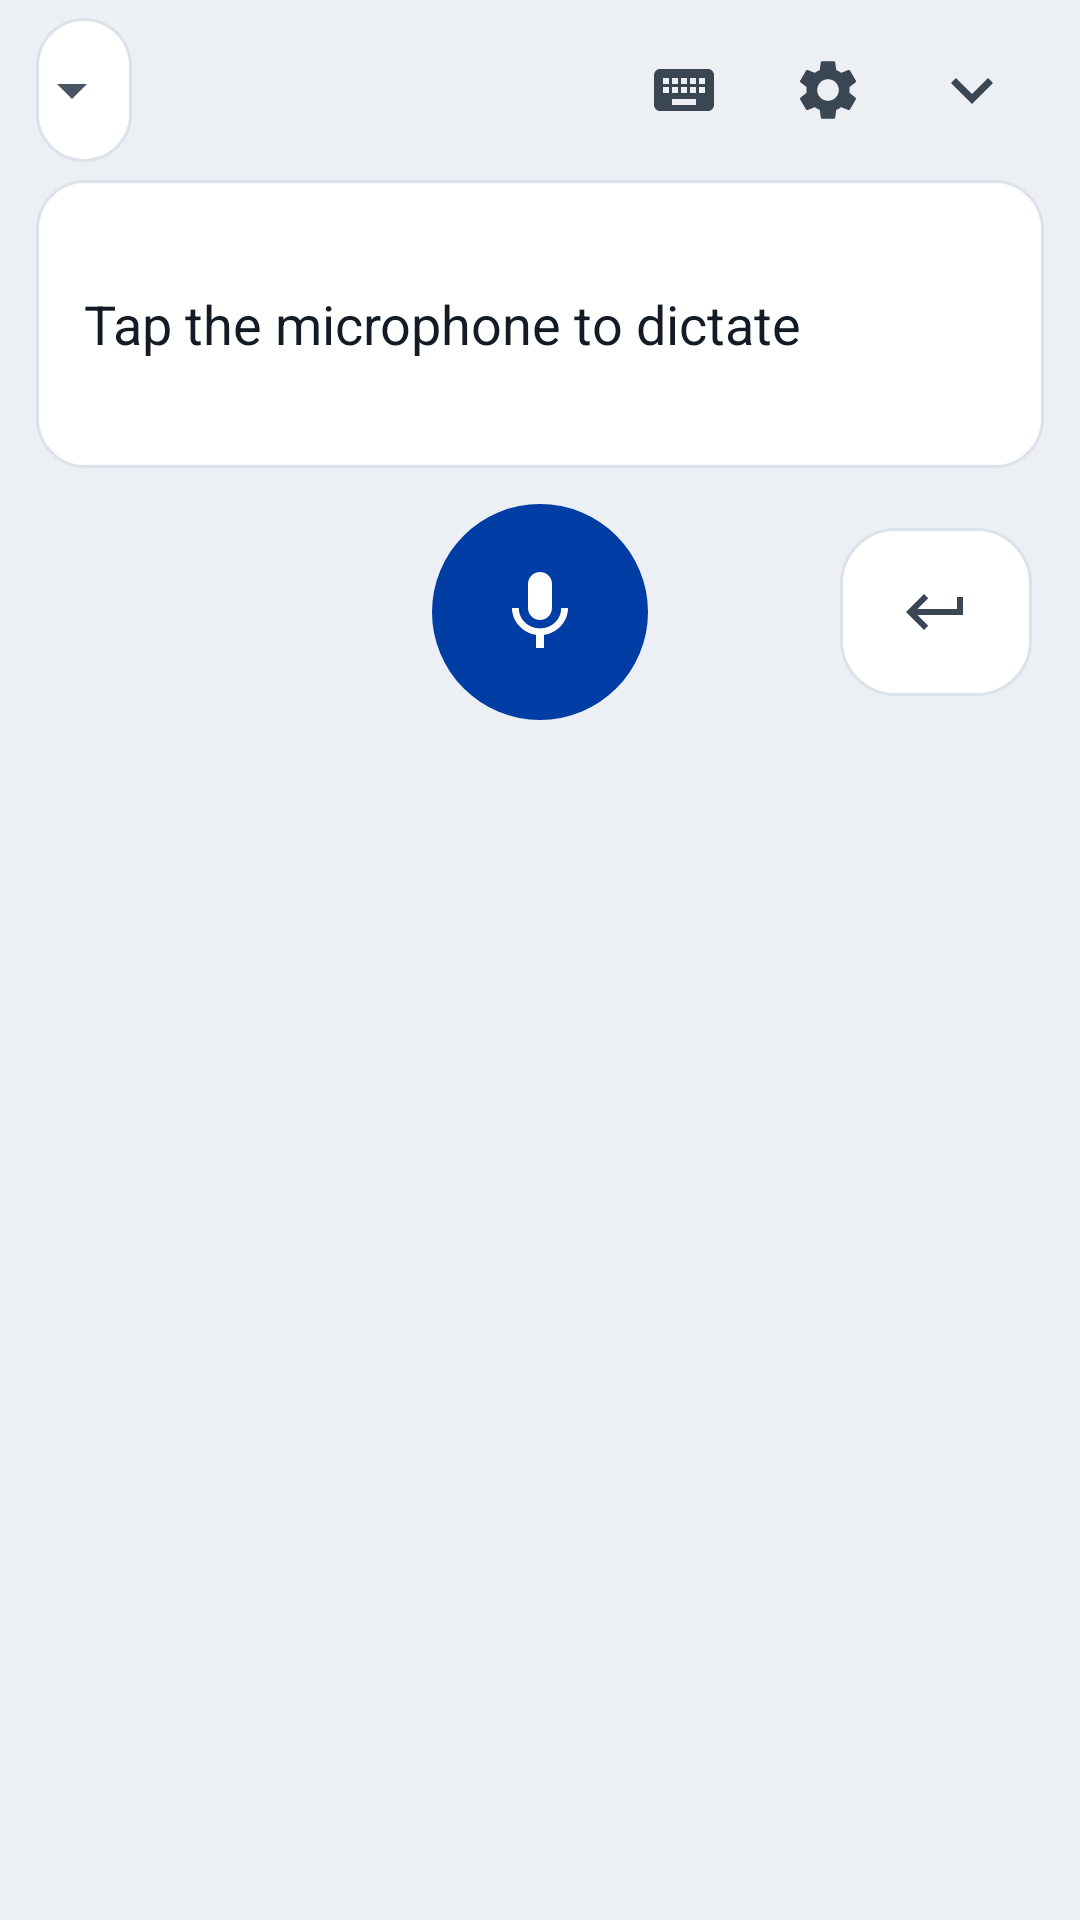

Named icons in this screenshot (1080px x 1920px) and their centers, (x,y):
Choose keyboard: (684,90)
Enter: (936,612)
Hide keyboard: (972,91)
Open server settings: (828,90)
Start voice input: (540,612)
